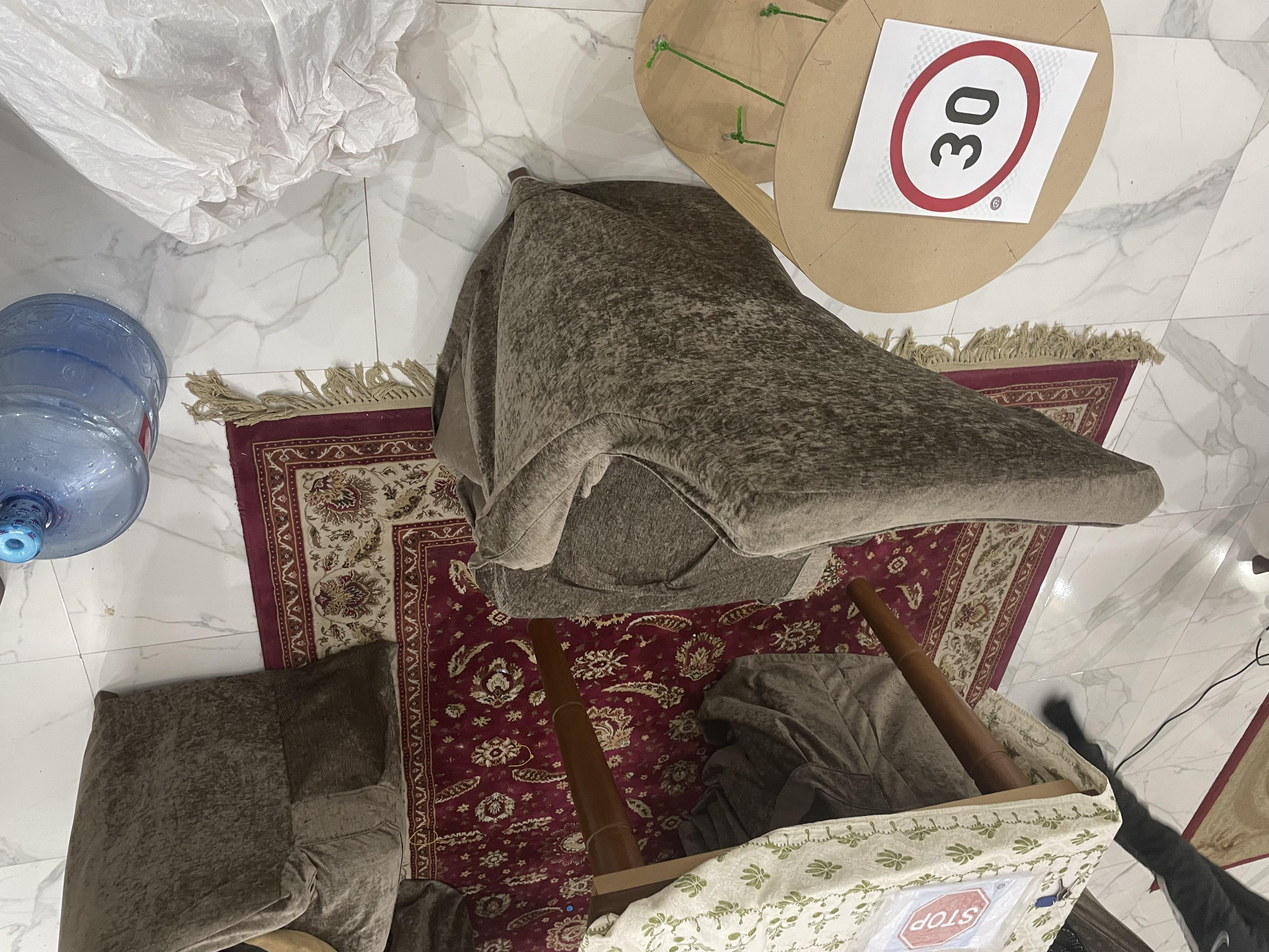30-speed: (991, 659, 1231, 787)
